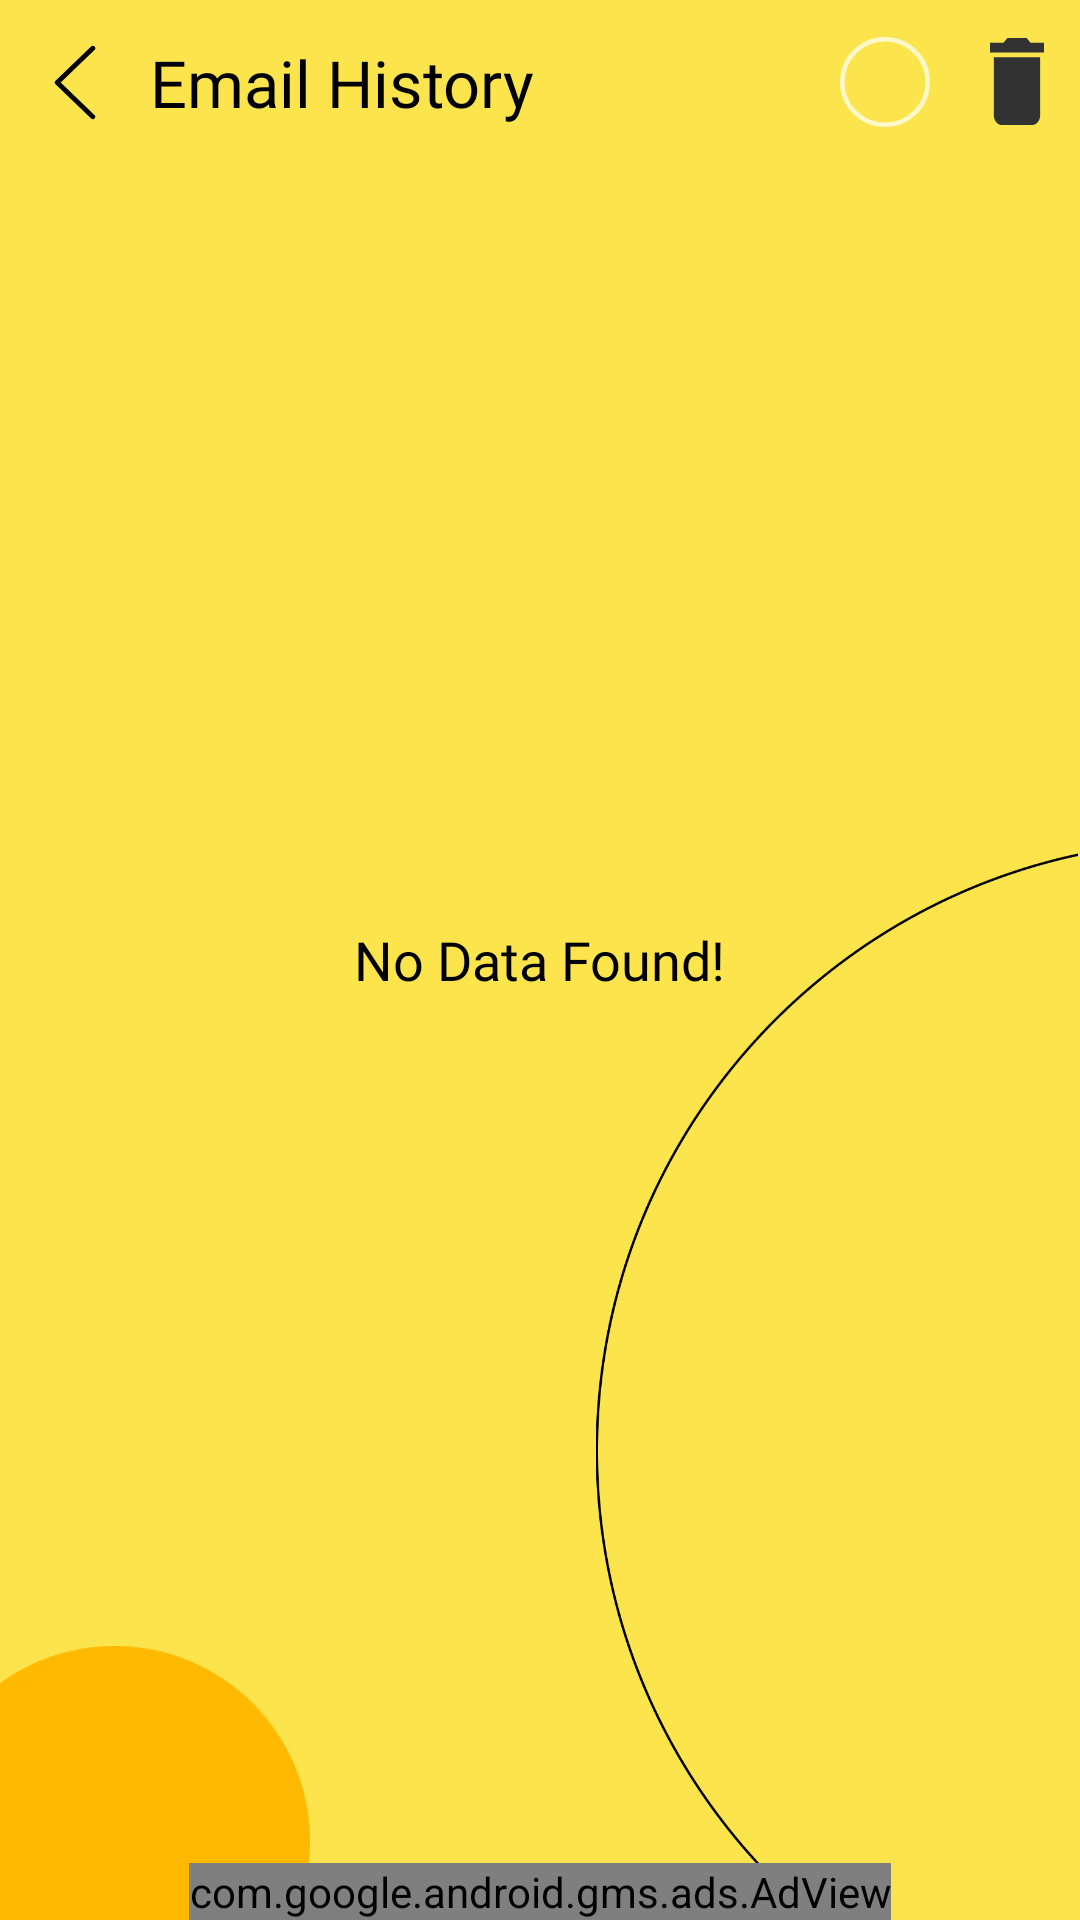

Icon click points for this 1080px x 1920px phone screenshot, format point (x, y):
back: point (75, 82)
delet: point (1017, 81)
not selact: point (885, 82)
